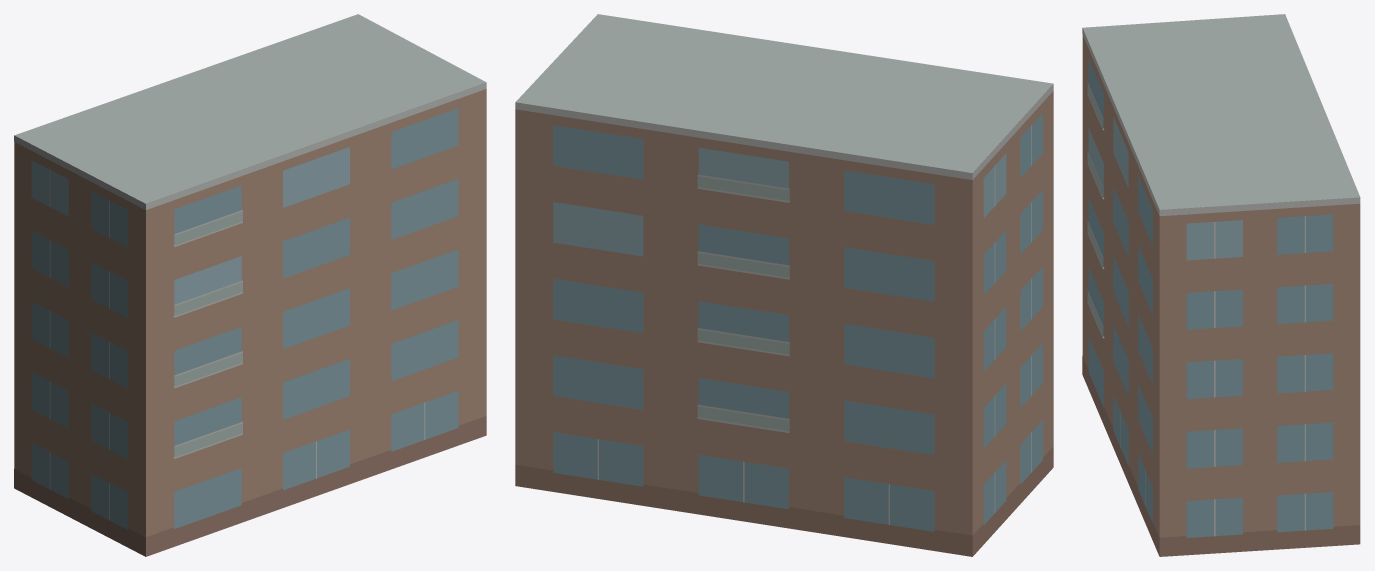
The model's file is survey-upis-32889380.glb.
The picture shows the model from 3 angles, left to right: view 1: azimuth 30°, elevation 25°; view 2: azimuth 150°, elevation 25°; view 3: azimuth 270°, elevation 25°; orthographic projection. The views are drawn at different scales.
Parts seen in each view (by area): view 1: survey-upis-32889380.tmp; view 2: survey-upis-32889380.tmp; view 3: survey-upis-32889380.tmp.
Part boxes in pixels (x1,y1,x2,y2): survey-upis-32889380.tmp: (14, 14, 486, 556); survey-upis-32889380.tmp: (515, 14, 1053, 556); survey-upis-32889380.tmp: (1082, 14, 1360, 556).
Bounding box in the file's own units: 16.36 × 13.5 × 9.81.
